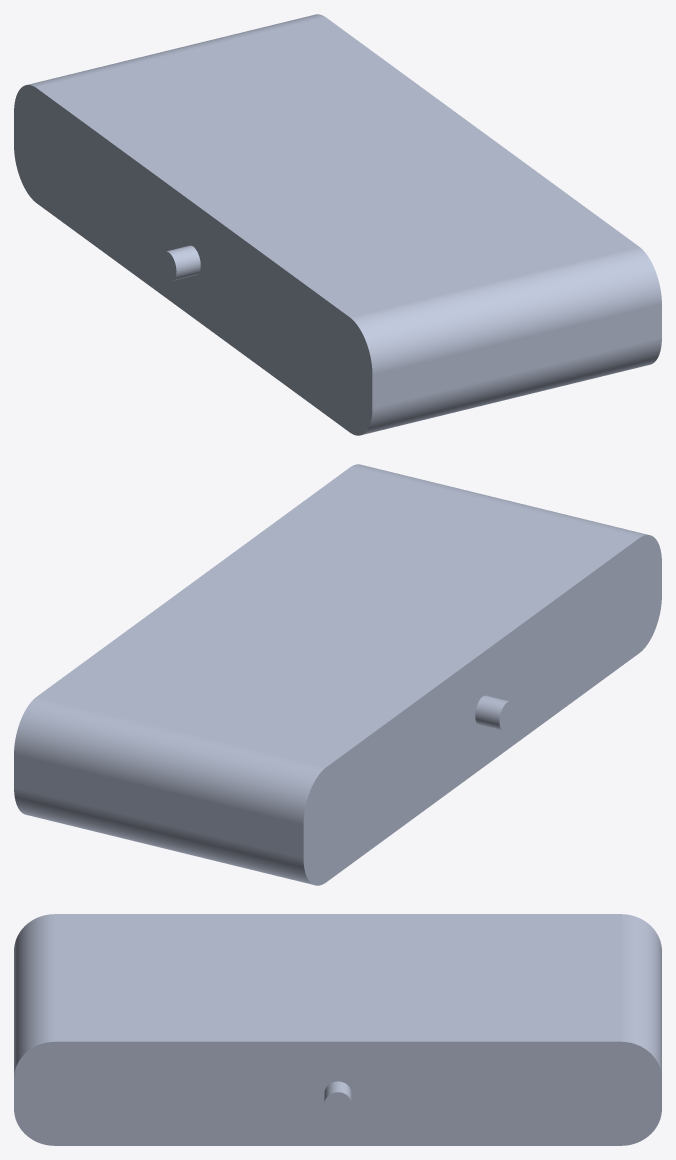
Rendered from ChasisV1.6.dae.
The picture shows the model from 3 angles, top to bottom: view 1: azimuth 30°, elevation 25°; view 2: azimuth 150°, elevation 25°; view 3: azimuth 270°, elevation 25°; orthographic projection. The views are drawn at different scales.
Parts seen in each view (by area): view 1: ID2; view 2: ID2; view 3: ID2.
Boxes of the visible parts, left/top/right/bottom form: ID2: left=14, top=14, right=661, bottom=435; ID2: left=14, top=464, right=661, bottom=885; ID2: left=14, top=914, right=661, bottom=1145.
Size of the model in its own units: 0.2581 by 0.474 by 0.084.
